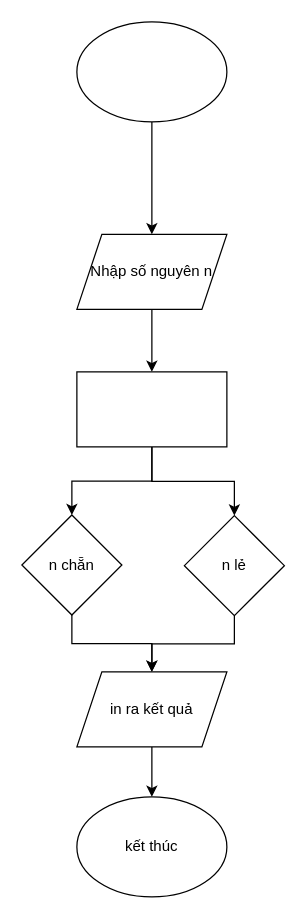
Some shapes in this 306 by 919 pixel diagram are drawn without their labels. The centre of each missing label's shape, as x and y in pixels:
"Kiểm tra n % 2 == 0" goes at point (151, 409).
"Start" goes at point (151, 71).
